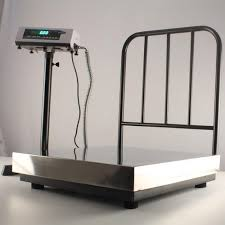Industrial Scale: (10, 24, 222, 210)
